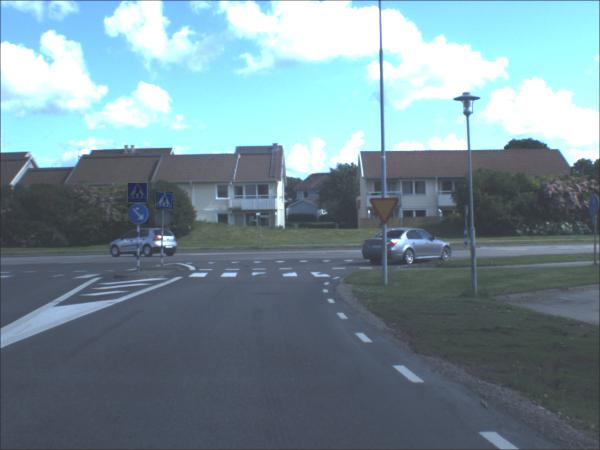GIVE_WAY: (371, 199, 401, 226)
PASS_RIGHT_SIDE: (129, 205, 151, 226)
PEDESTRIAN_CROSSING: (129, 185, 149, 205), (157, 194, 175, 212)
